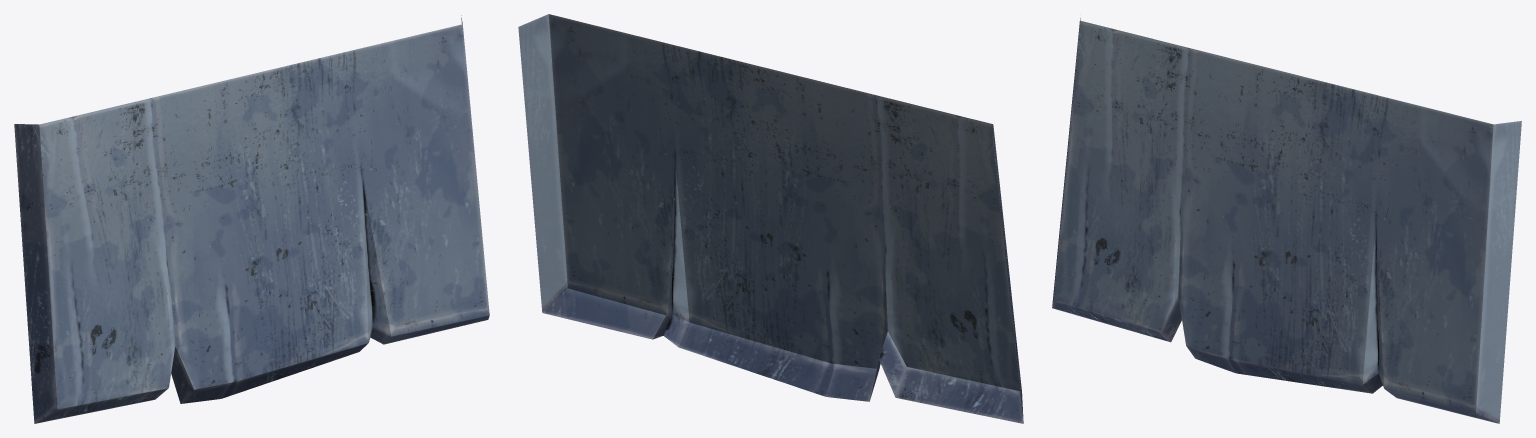
The model's file is envRoofTiles_02.fbx.
The picture shows the model from 3 angles, left to right: view 1: azimuth 30°, elevation 25°; view 2: azimuth 150°, elevation 25°; view 3: azimuth 330°, elevation 25°; orthographic projection. The views are drawn at different scales.
Visible parts, largest first — view 1: envRoofTiles_02; view 2: envRoofTiles_02; view 3: envRoofTiles_02.
Boxes of the visible parts, x1=… form: envRoofTiles_02: x1=14, y1=15, x2=489, y2=423; envRoofTiles_02: x1=518, y1=14, x2=1023, y2=423; envRoofTiles_02: x1=1052, y1=18, x2=1521, y2=423.
Size of the model in its own units: 39.59 by 25.61 by 5.7.
